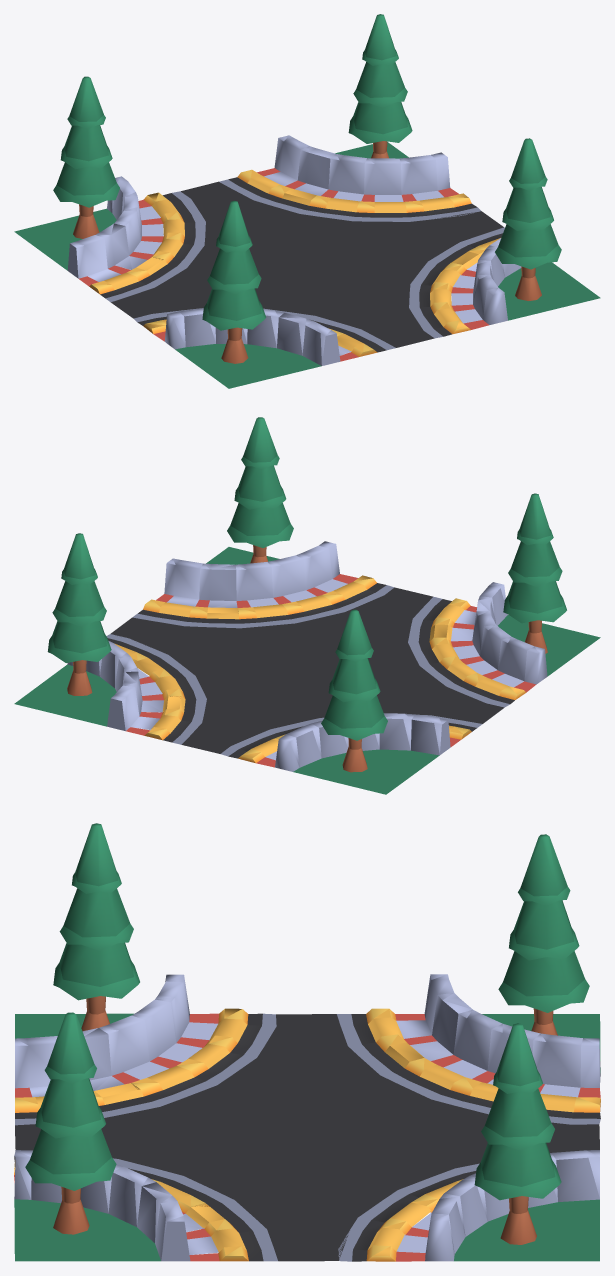
The model's file is track-thin-4-way.glb.
3 renders of one model, top to bottom at view 1: azimuth 30°, elevation 25°; view 2: azimuth 150°, elevation 25°; view 3: azimuth 270°, elevation 25°, orthographic. The views are drawn at different scales.
Visible parts, largest first — view 1: track-corner.006; view 2: track-corner.006; view 3: track-corner.006.
Part boxes in pixels (x1,y1,x2,y2): track-corner.006: [14, 14, 600, 388]; track-corner.006: [14, 417, 600, 794]; track-corner.006: [14, 823, 600, 1261].
Bounding box in the file's own units: 10.03 × 4 × 10.03.
Materials: 8 (8 with a texture image).
